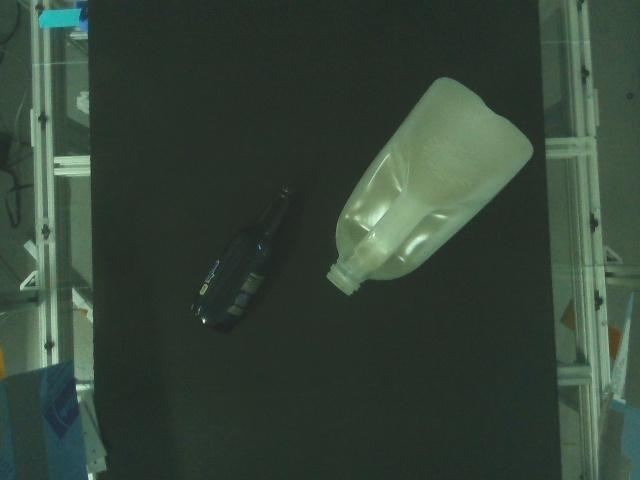glass: (187, 183, 298, 338)
plastic: (325, 75, 536, 298)
